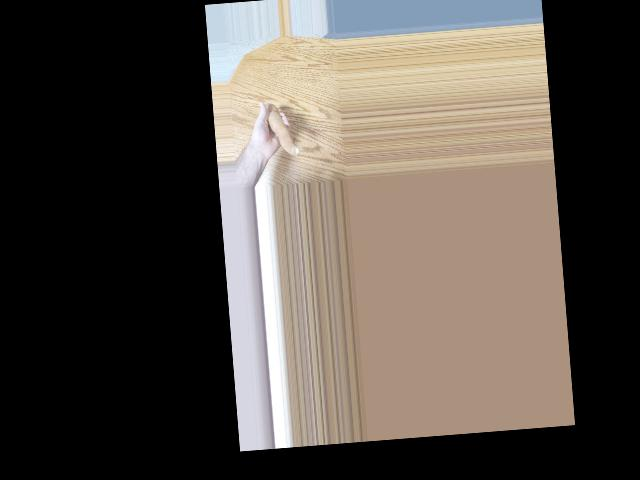sweet_potato: (265, 103, 299, 159)
